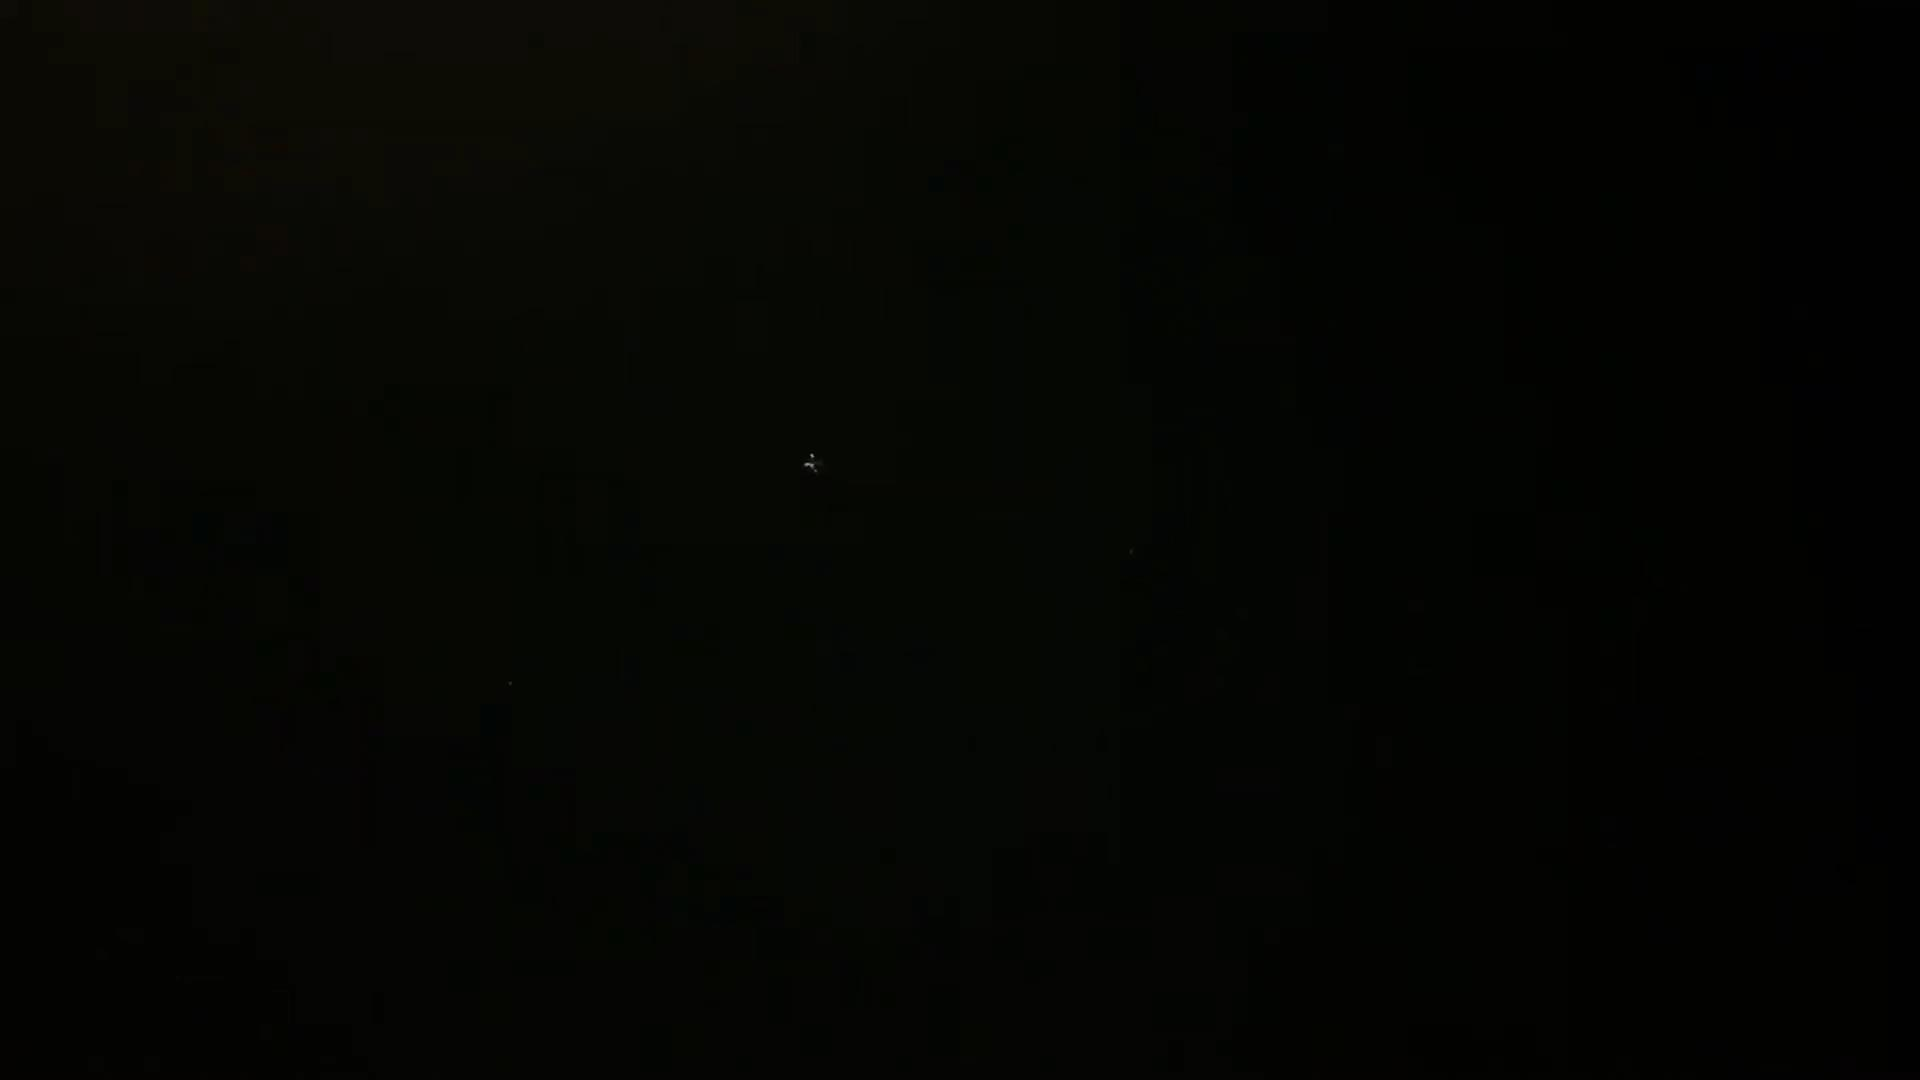Plane: (793, 443, 845, 480)
